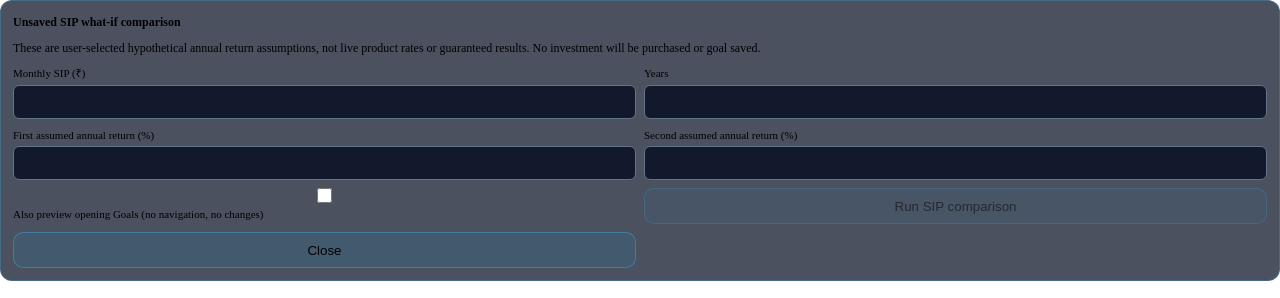
Test: Sovereign SIP comparison › never renders an older scenario after editing inputs during an in-flight request
Type "5000" into the number field named "Monthly SIP amount". click: (324, 102)
box: [13,84,636,118]
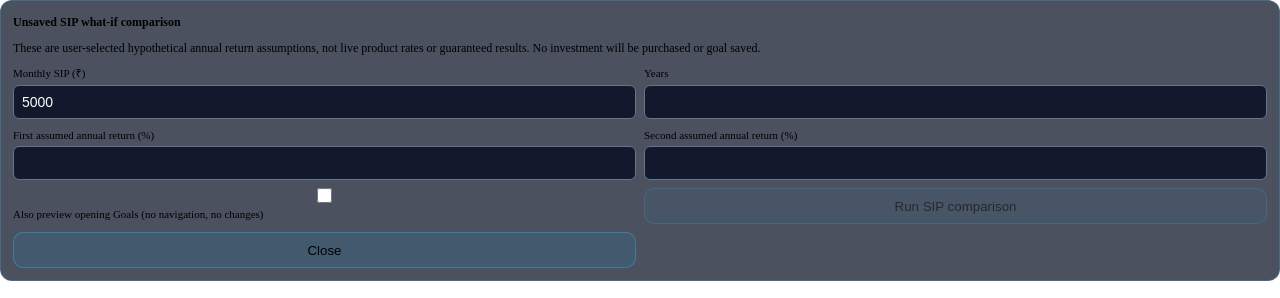
Type "10" into the number field named "SIP years". click: (956, 102)
box: [644,84,1267,118]
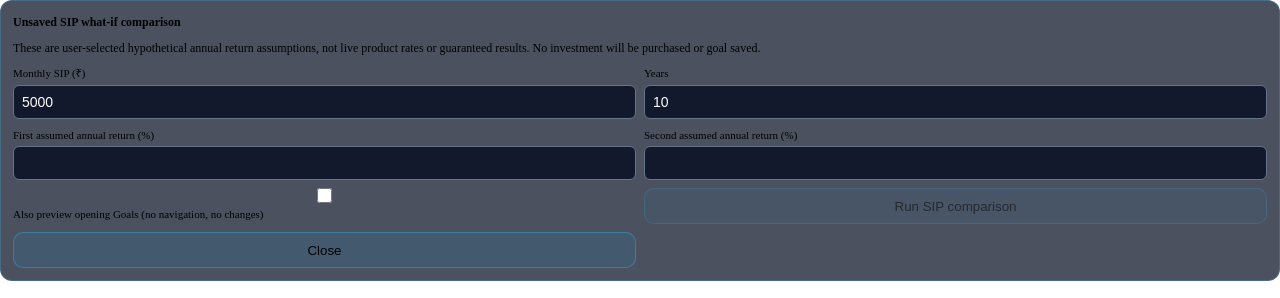
Type "7" into the number field named "First annual return assumption". click: (324, 163)
box: [13,146,636,180]
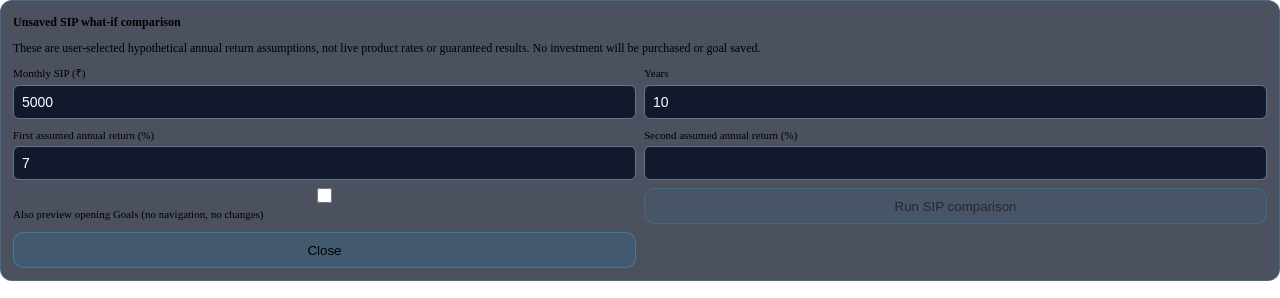
Type "10" into the number field named "Second annual return assumption". click: (956, 163)
box: [644,146,1267,180]
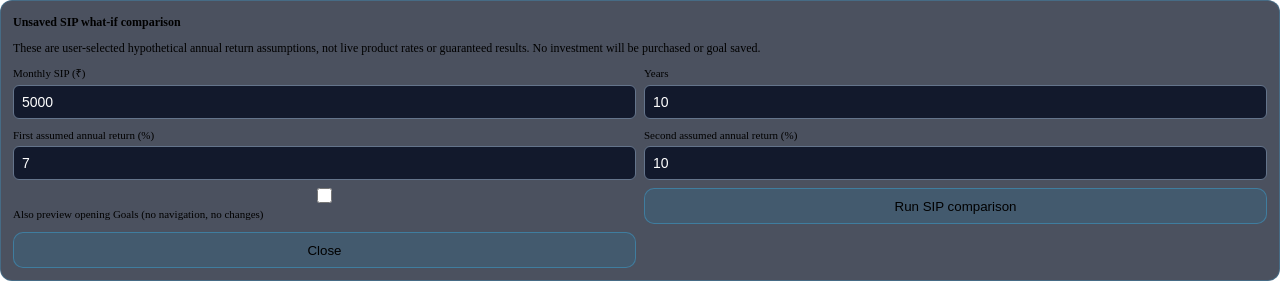
Click the button "Run SIP comparison". click: (956, 206)
box: [644,188,1267,224]
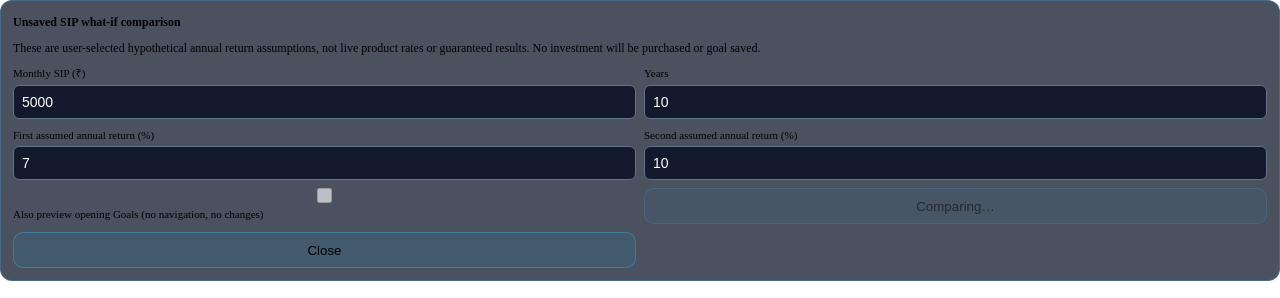
Replace the text in the number field named "Monthly SIP amount" with "7000". click: (324, 102)
box: [13,84,636,118]
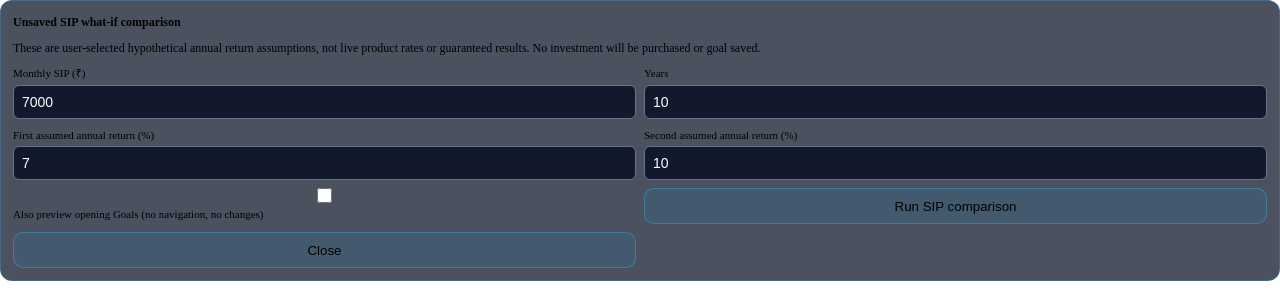
Expected: the button "Run SIP comparison" is enabled, [644,188,1267,224]
